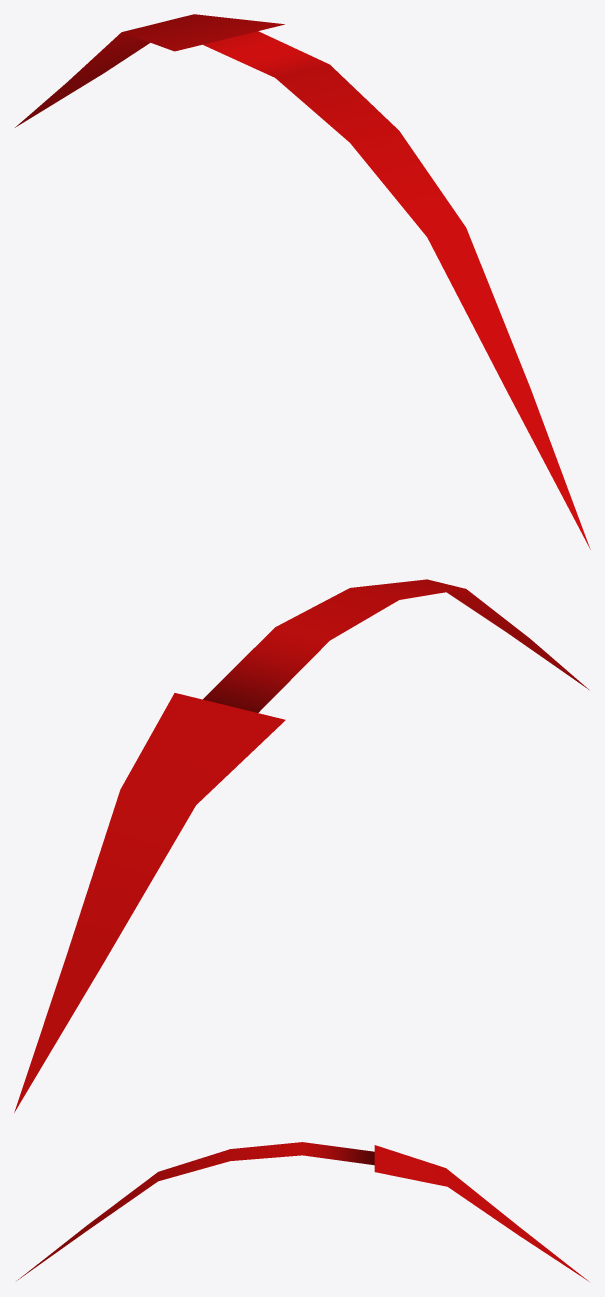
The model's file is Arrow.obj.
3 renders of one model, top to bottom at view 1: azimuth 30°, elevation 25°; view 2: azimuth 150°, elevation 25°; view 3: azimuth 270°, elevation 25°, orthographic. The views are drawn at different scales.
Visible parts, largest first — view 1: Plane.003; view 2: Plane.003; view 3: Plane.003.
Part boxes in pixels (x1,y1,x2,y2): Plane.003: [15, 14, 590, 549]; Plane.003: [14, 579, 588, 1112]; Plane.003: [17, 1142, 588, 1281].
Size of the model in its own units: 0.8919 by 2.05 by 8.
